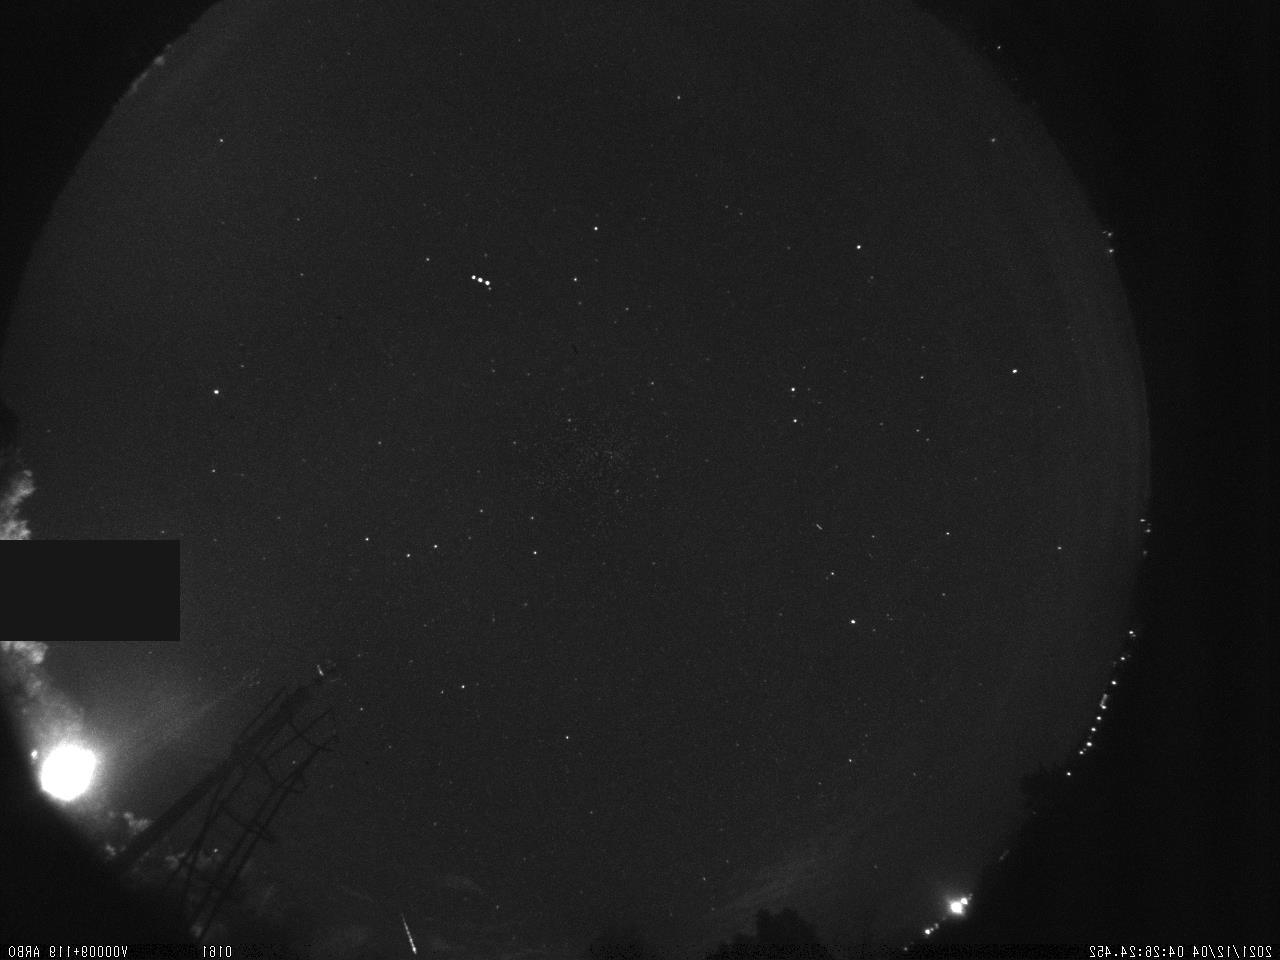meteor: (387, 899, 424, 960)
satelite: (464, 268, 496, 292)
